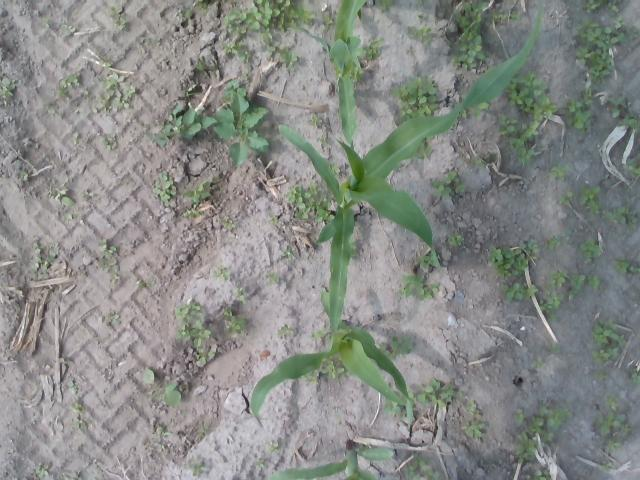Maize: (279, 6, 542, 256), (249, 204, 414, 423), (289, 0, 361, 149), (263, 444, 397, 480)
Weeds: (212, 92, 270, 167), (572, 17, 618, 88), (450, 1, 489, 72), (504, 70, 556, 122), (390, 76, 438, 125), (498, 114, 539, 165), (488, 238, 539, 278), (164, 102, 216, 140), (287, 182, 334, 222), (514, 416, 554, 462), (254, 0, 300, 38), (416, 376, 464, 408), (142, 367, 181, 406), (96, 72, 136, 110), (174, 300, 211, 341), (592, 318, 626, 361), (564, 89, 594, 135), (607, 95, 640, 135), (223, 5, 262, 36), (28, 241, 58, 280), (398, 274, 439, 300), (404, 453, 442, 480), (431, 170, 466, 198), (602, 206, 640, 230), (594, 411, 632, 435), (377, 334, 412, 360), (151, 170, 177, 203), (538, 290, 564, 323), (320, 354, 351, 380), (538, 406, 571, 430), (460, 93, 490, 118), (500, 282, 539, 300), (578, 186, 602, 214), (222, 307, 246, 334), (183, 180, 210, 203), (193, 336, 215, 364), (108, 4, 129, 32), (414, 134, 436, 160), (278, 44, 301, 68), (222, 80, 247, 102), (406, 24, 432, 44), (580, 237, 602, 260), (612, 258, 640, 275), (195, 55, 217, 76), (144, 128, 168, 147), (568, 274, 586, 299), (461, 420, 486, 438), (364, 37, 384, 59), (620, 17, 638, 41), (51, 188, 75, 206), (312, 323, 332, 344), (546, 269, 568, 288), (184, 460, 208, 477), (298, 2, 314, 26), (382, 395, 402, 414), (414, 252, 436, 269), (97, 239, 116, 258), (300, 368, 320, 386), (549, 164, 570, 181), (490, 11, 522, 22), (0, 76, 15, 99), (400, 385, 416, 406), (98, 134, 118, 150), (212, 266, 232, 282), (526, 468, 552, 480), (222, 40, 244, 54), (181, 204, 203, 218), (464, 400, 480, 418), (98, 261, 120, 274), (276, 324, 295, 338), (321, 12, 334, 32), (604, 438, 624, 451), (448, 230, 464, 246), (545, 234, 561, 250), (262, 38, 276, 56), (57, 80, 70, 99), (234, 285, 247, 304), (349, 238, 360, 260), (628, 157, 640, 177), (585, 0, 605, 12), (308, 112, 323, 128), (281, 246, 296, 262), (586, 274, 602, 289), (602, 394, 618, 409), (220, 216, 237, 230), (375, 0, 396, 11), (42, 101, 58, 115), (511, 407, 525, 423), (153, 426, 171, 438), (558, 192, 573, 206), (328, 161, 342, 176), (265, 271, 280, 285), (350, 65, 363, 81), (196, 0, 208, 17), (69, 401, 84, 414), (178, 8, 194, 20), (630, 366, 640, 385), (606, 1, 620, 14), (267, 440, 280, 454), (60, 24, 75, 36), (67, 379, 77, 396), (35, 464, 48, 477), (238, 51, 252, 63), (74, 418, 88, 430), (546, 344, 562, 354), (186, 84, 197, 98), (100, 56, 111, 70), (68, 74, 80, 86), (108, 313, 120, 325), (531, 358, 545, 368), (268, 214, 279, 226), (476, 154, 486, 167), (72, 130, 80, 146), (596, 370, 606, 382), (42, 16, 51, 29), (138, 282, 152, 290), (64, 213, 74, 224), (601, 460, 612, 470), (20, 169, 29, 181), (82, 190, 95, 198), (198, 425, 207, 436), (64, 475, 83, 480), (243, 68, 250, 80), (83, 88, 90, 100), (255, 460, 265, 468), (94, 458, 102, 467), (319, 134, 328, 142), (418, 12, 426, 20), (335, 412, 341, 419)
